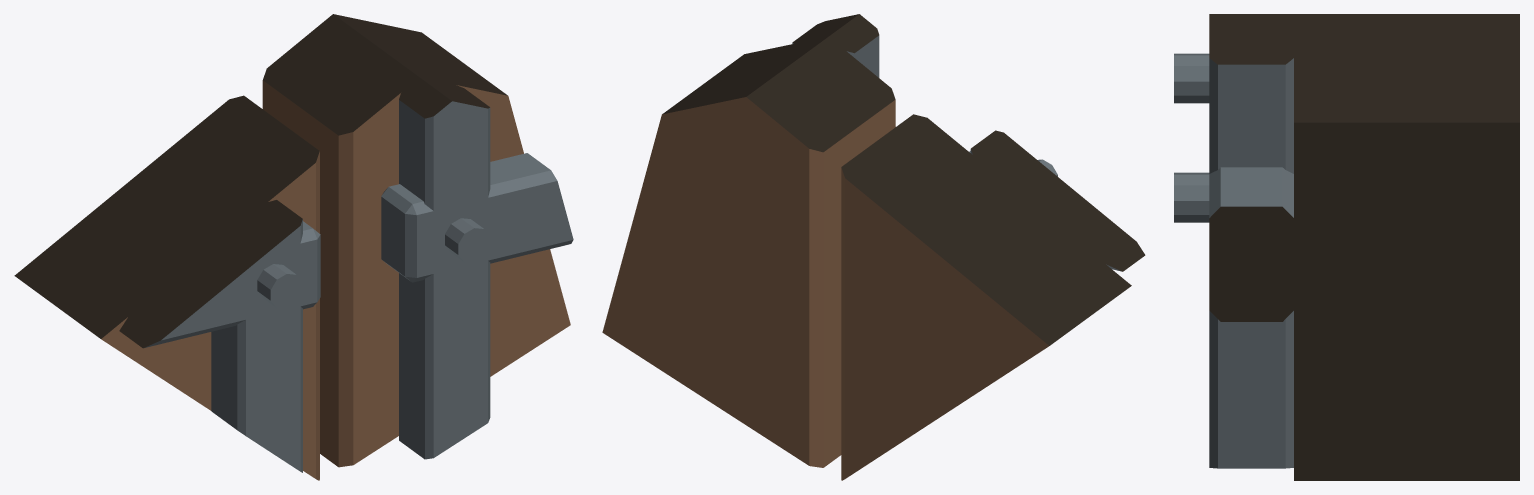
File: SM_DoorShard_03_12.fbx
3 renders of one model, left to right at view 1: azimuth 30°, elevation 25°; view 2: azimuth 150°, elevation 25°; view 3: azimuth 270°, elevation 25°, orthographic. The views are drawn at different scales.
Parts seen in each view (by area): view 1: SM_DoorShard_03_12; view 2: SM_DoorShard_03_12; view 3: SM_DoorShard_03_12.
Part boxes in pixels (x1,y1,x2,y2): SM_DoorShard_03_12: (14,14,573,480); SM_DoorShard_03_12: (602,14,1145,480); SM_DoorShard_03_12: (1174,14,1519,480).
Bounding box in the file's own units: 50.1 × 24.5 × 39.08.
